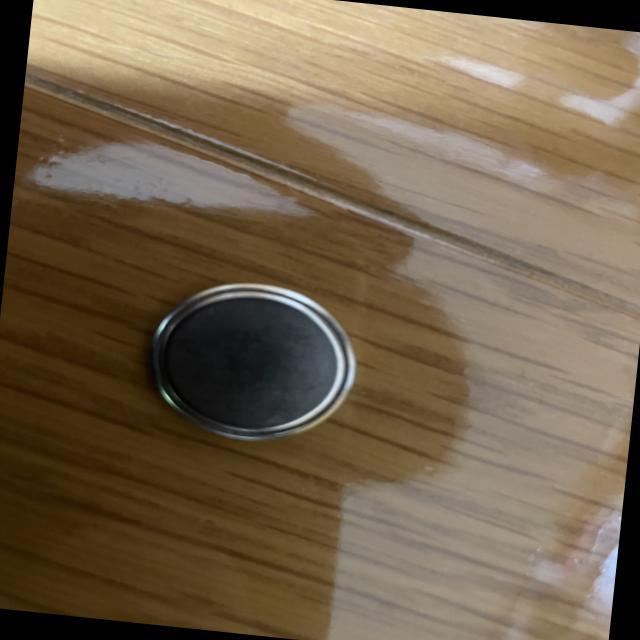COIN: (136, 269, 362, 452)
